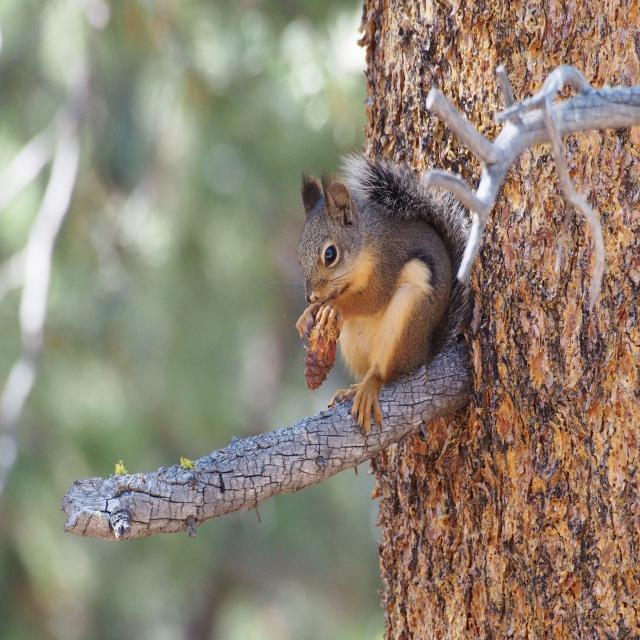Squirrel: (294, 158, 469, 404)
